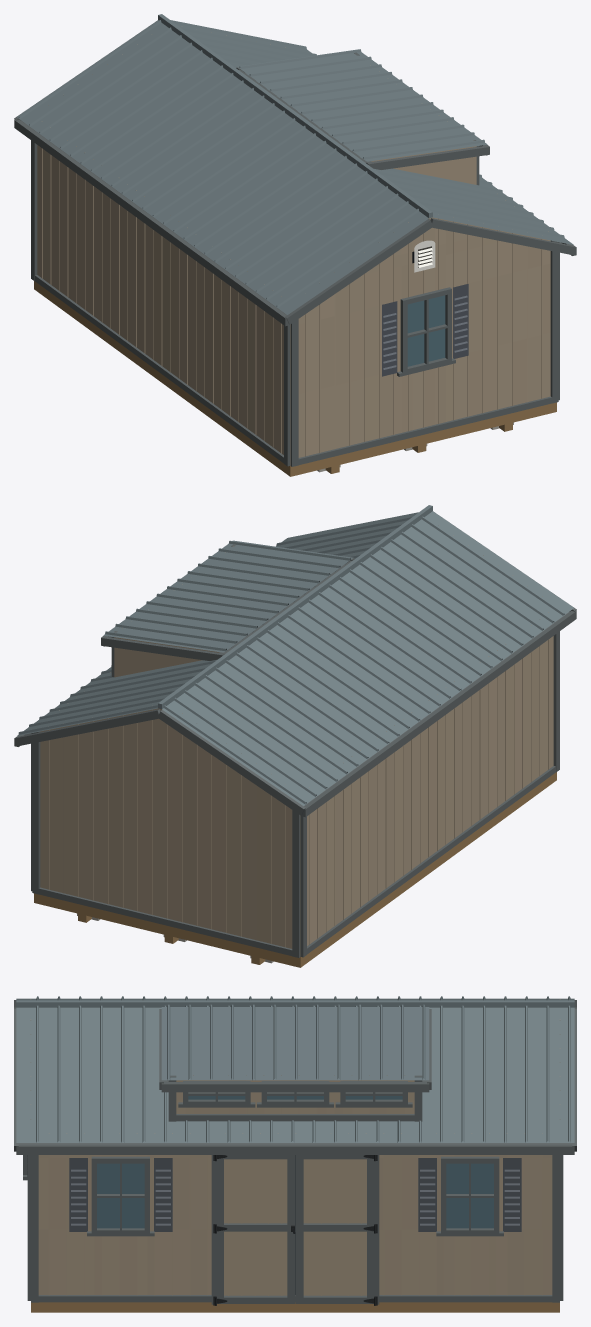
File: 12-dormer-package-shutters.glb
3 renders of one model, top to bottom at view 1: azimuth 30°, elevation 25°; view 2: azimuth 150°, elevation 25°; view 3: azimuth 270°, elevation 25°, orthographic. The views are drawn at different scales.
Parts seen in each view (by area): view 1: Main roof, front wall, left wall, Dormer roof, Floor platform and skids, front wall window, Louvered window shutters, Dormer cheeks, front wall vent; view 2: Main roof, rear wall, left wall, Dormer roof, Floor platform and skids, Dormer cheeks; view 3: Main roof, right wall, right wall double, Dormer roof, right wall window, Louvered window shutters, Floor platform and skids, right dormer wall, right dormer wall transom, front wall, rear wall.
Boxes of the visible parts, x1,y1,x2,y2 form: Main roof: (14, 14, 576, 326); front wall: (290, 217, 558, 466); left wall: (31, 121, 290, 466); Dormer roof: (236, 49, 489, 169); Floor platform and skids: (34, 281, 556, 476); front wall window: (397, 287, 455, 376); Louvered window shutters: (382, 284, 468, 376); Dormer cheeks: (371, 146, 476, 184); front wall vent: (414, 240, 435, 272); Main roof: (14, 505, 576, 817); rear wall: (32, 708, 300, 957); left wall: (300, 612, 559, 957); Dormer roof: (101, 540, 354, 660); Floor platform and skids: (34, 772, 556, 967); Dormer cheeks: (114, 637, 219, 677); Main roof: (14, 996, 576, 1154); right wall: (31, 1133, 559, 1302); right wall double: (211, 1155, 379, 1305); Dormer roof: (159, 1004, 431, 1092); right wall window: (87, 1156, 503, 1236); Louvered window shutters: (27, 1155, 521, 1231); Floor platform and skids: (31, 1302, 559, 1312); right dormer wall: (168, 1075, 422, 1121); right dormer wall transom: (178, 1081, 412, 1107); front wall: (27, 999, 30, 1300); rear wall: (560, 999, 563, 1300).
Bounding box in the file's own units: 4 × 3.23 × 6.49.
